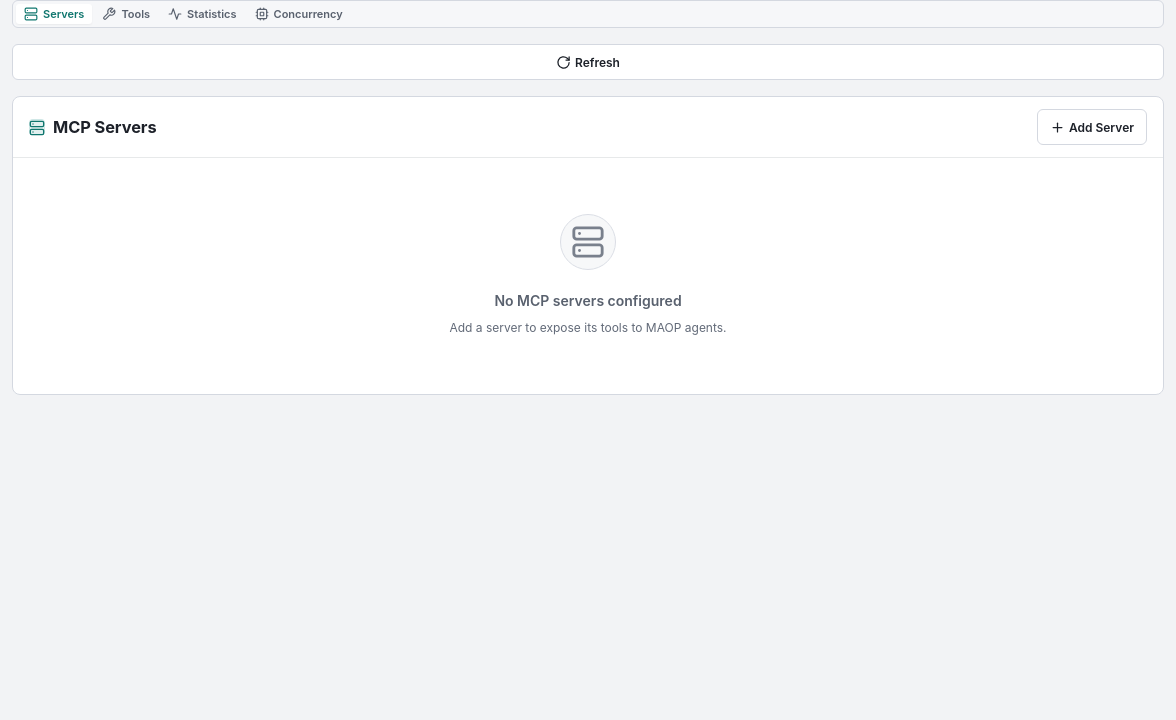
Test: McpManager.vue › renders stats overview when /api/mcp/stats returns series
// Switch to stats tab (index 2)
Click the radio button with class "segmented__item" showing "Statistics": (202, 14) [160,4,244,24]
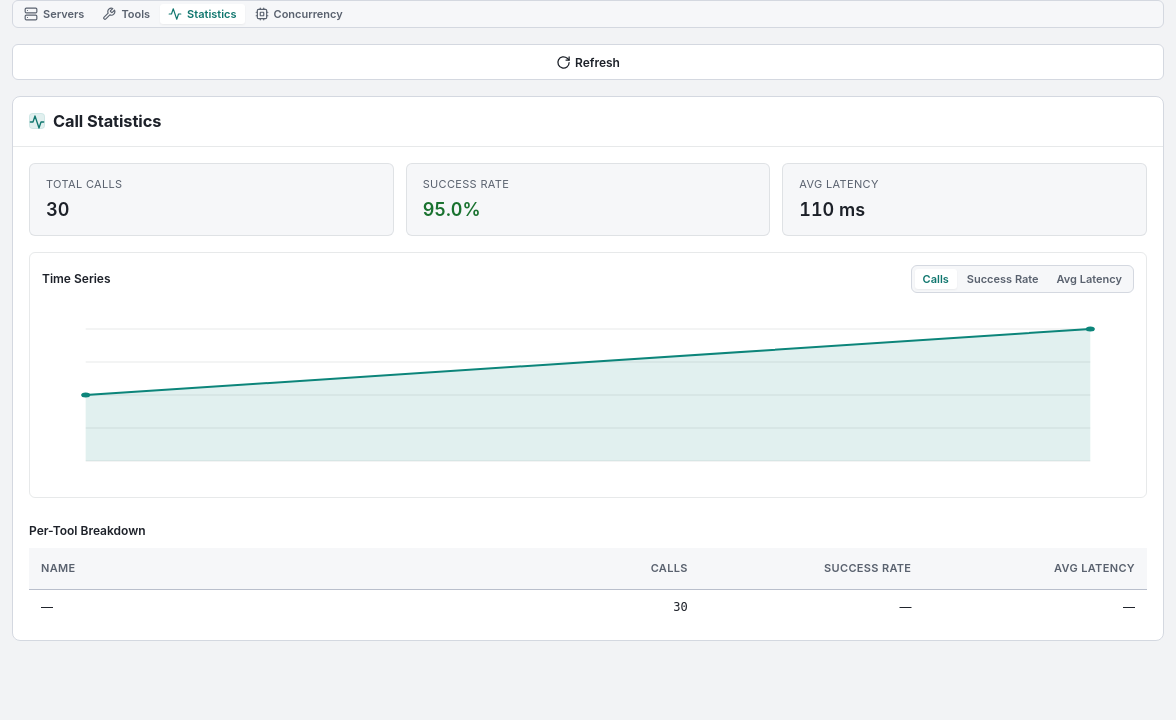
Now the element with class "stats-overview" is shown, box [29,163,1147,236]
Now the picture with class "stats-chart__svg" is shown, box [42,305,1134,485]
Now the text "30" is shown, box [46,199,69,220]
